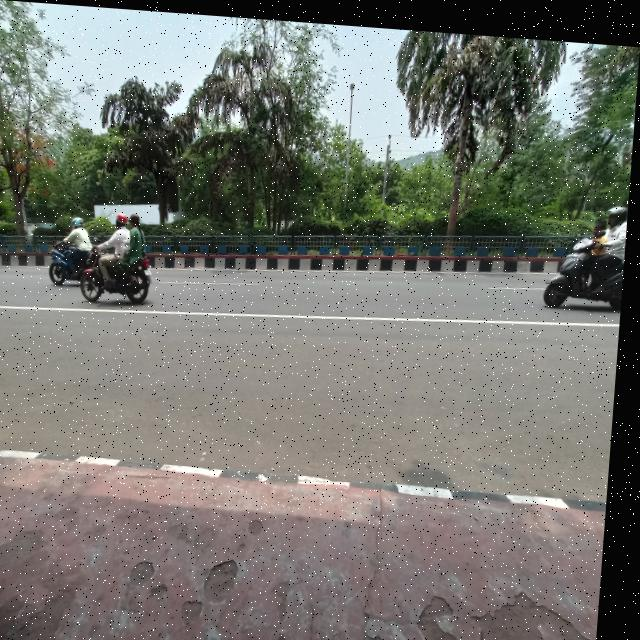bike: (538, 221, 629, 306), (83, 237, 159, 314), (48, 237, 83, 288)
